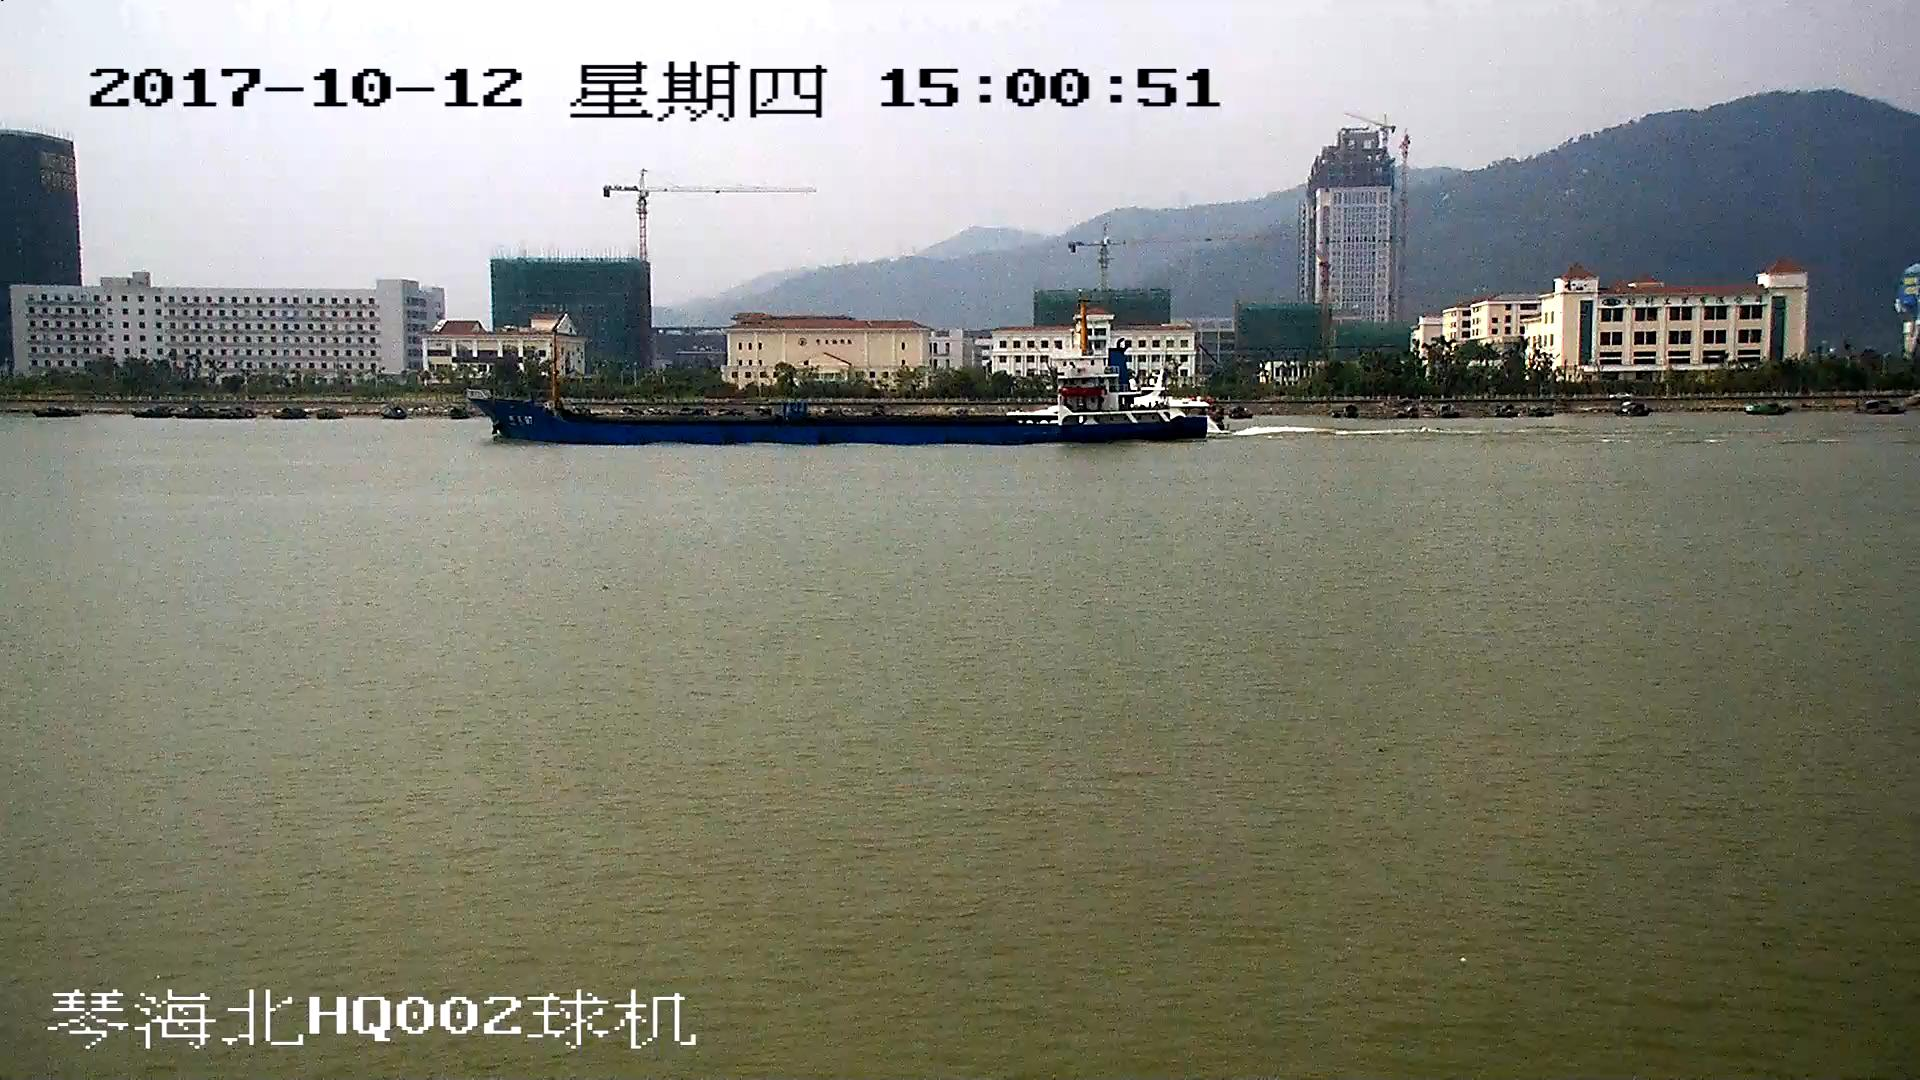general cargo ship: (477, 311, 1208, 446)
